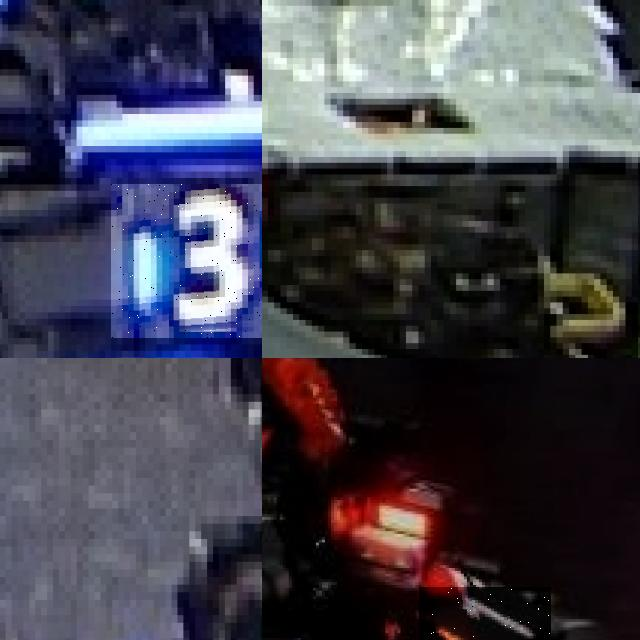R1: (418, 587, 551, 640)
R3: (111, 184, 262, 337)
